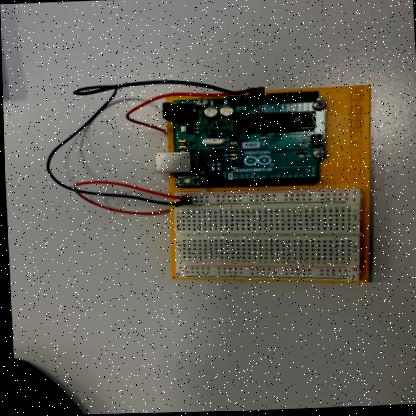5V: (105, 85, 250, 184), (53, 176, 163, 223), (164, 184, 184, 201)
ARDUINO: (169, 93, 326, 185)
Breadboard: (172, 191, 358, 283)
GND: (31, 76, 270, 211)
